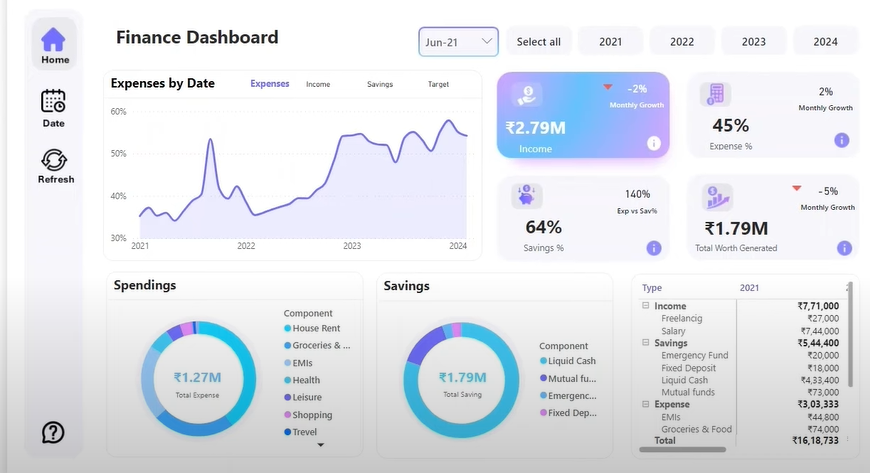

Layout of this report page (visuals, bound fields, positions):
{"tool":"powerbi","page":{"name":"Financial Dashboard","canvas":[1280,720],"ordinal":1},"visuals":[{"type":"image","box":[0,0,98.3,702.7],"z":0},{"type":"image","box":[15.7,104.3,60,60],"z":1000},{"type":"shape","box":[1025.3,98.2,250,130],"z":2000},{"type":"image","box":[753.8,98.4,271.8,130],"z":3000},{"type":"shape","box":[1025.3,263,248,134.8],"z":4000},{"type":"shape","box":[754,263,264.7,134.8],"z":5000},{"type":"image","box":[658.2,0,145.5,62.7],"z":6000},{"type":"areaChart","fields":{"Category":["FinData.Date"],"Y":["FinData.Line_Chart_Measures"]},"box":[104.9,88.2,625.9,309.6],"z":7000},{"type":"card","fields":{"Values":["FinData.Income"]},"box":[759.7,145.5,152.8,79.3],"z":8000},{"type":"card","fields":{"Values":["FinData.Expenses %"]},"box":[1028.7,149.8,99.9,79.9],"z":9000},{"type":"card","fields":{"Values":["FinData.Savings %"]},"box":[759,312.9,99.9,79.9],"z":10000},{"type":"card","fields":{"Values":["FinData.Savings"]},"box":[1025.3,312.9,191.4,79.9],"z":11000},{"type":"slicer","fields":{"Values":["FinData.Year"]},"box":[804,5,469.4,58.3],"z":12000},{"type":"donutChart","title":"Savings","fields":{"Y":["FinData.Savings"],"Category":["FinData.Component"]},"box":[570,415,380,287.5],"z":13000},{"type":"donutChart","title":"Expenses","fields":{"Category":["FinData.Component"],"Y":["FinData.Expenses"]},"box":[105,415,460,287.5],"z":14000},{"type":"pivotTable","fields":{"Values":["FinData.Total value"],"Rows":["FinData.Type","FinData.Component"],"Columns":["FinData.Year"]},"box":[957.5,415,315,287.5],"z":15000},{"type":"slicer","fields":{"Values":["Line_Selection_Table.Type"]},"box":[351.2,89.6,364.4,33.8],"z":16000},{"type":"slicer","fields":{"Values":["Selected Date.Month-Year"]},"box":[658.3,7.3,145.5,50],"z":17000},{"type":"card","fields":{"Values":["FinData.Expenses Monthly Growth"]},"box":[895.5,104.9,123.2,63.3],"z":18000},{"type":"card","fields":{"Values":["FinData.Income Monthly Growth"]},"box":[1125.2,98.2,146.5,69.9],"z":19000},{"type":"card","fields":{"Values":["FinData.Savings Monthly Growth"]},"box":[1125.2,263,148.1,69.9],"z":20000},{"type":"card","fields":{"Values":["FinData.Expenses Vs Savings"]},"box":[895.5,263,100,70],"z":21000},{"type":"image","box":[759,263,100,50],"z":22000},{"type":"image","box":[970.4,344.6,43.3,53.3],"z":23000},{"type":"image","box":[1228.4,349.5,44.9,48.3],"z":24000},{"type":"image","box":[1025.3,266.3,100,50],"z":25000},{"type":"image","box":[970.4,171.4,43.3,53.3],"z":26000},{"type":"image","box":[775.7,104.9,100,50],"z":27000},{"type":"image","box":[1230.1,176.4,43.3,53.3],"z":28000},{"type":"image","box":[1028.7,98.2,100,50],"z":29000},{"type":"textbox","box":[105,6.9,352.5,68.1],"z":30000},{"type":"image","box":[15.9,28.2,60,60],"z":31000},{"type":"image","box":[15.6,176.2,60,60],"z":32000},{"type":"image","box":[14.5,626,66.5,56.4],"z":33000},{"type":"actionButton","title":"Show","box":[15.7,104.3,60,60],"z":34000},{"type":"actionButton","title":"Refresh","box":[14.7,176.3,60.2,60.2],"z":37000}]}

Visuals, with their boxes on the page's 1280x720 design canvas (x1, y1, x2, y2). These are canvas units, not pixel positions in the 870x473 screenshot, which may show the page scaled, cropped or inside an application window:
image: box(0, 0, 98, 703)
image: box(16, 104, 76, 164)
shape: box(1025, 98, 1275, 228)
image: box(754, 98, 1026, 228)
shape: box(1025, 263, 1273, 398)
shape: box(754, 263, 1019, 398)
image: box(658, 0, 804, 63)
areaChart - FinData.Date x FinData.Line_Chart_Measures: box(105, 88, 731, 398)
card - FinData.Income: box(760, 146, 912, 225)
card - FinData.Expenses %: box(1029, 150, 1129, 230)
card - FinData.Savings %: box(759, 313, 859, 393)
card - FinData.Savings: box(1025, 313, 1217, 393)
slicer - FinData.Year: box(804, 5, 1273, 63)
"Savings" donutChart: box(570, 415, 950, 702)
"Expenses" donutChart: box(105, 415, 565, 702)
pivotTable - FinData.Total value x FinData.Type: box(958, 415, 1272, 702)
slicer - Line_Selection_Table.Type: box(351, 90, 716, 123)
slicer - Selected Date.Month-Year: box(658, 7, 804, 57)
card - FinData.Expenses Monthly Growth: box(896, 105, 1019, 168)
card - FinData.Income Monthly Growth: box(1125, 98, 1272, 168)
card - FinData.Savings Monthly Growth: box(1125, 263, 1273, 333)
card - FinData.Expenses Vs Savings: box(896, 263, 996, 333)
image: box(759, 263, 859, 313)
image: box(970, 345, 1014, 398)
image: box(1228, 350, 1273, 398)
image: box(1025, 266, 1125, 316)
image: box(970, 171, 1014, 225)
image: box(776, 105, 876, 155)
image: box(1230, 176, 1273, 230)
image: box(1029, 98, 1129, 148)
textbox: box(105, 7, 458, 75)
image: box(16, 28, 76, 88)
image: box(16, 176, 76, 236)
image: box(14, 626, 81, 682)
"Show" actionButton: box(16, 104, 76, 164)
"Refresh" actionButton: box(15, 176, 75, 236)
